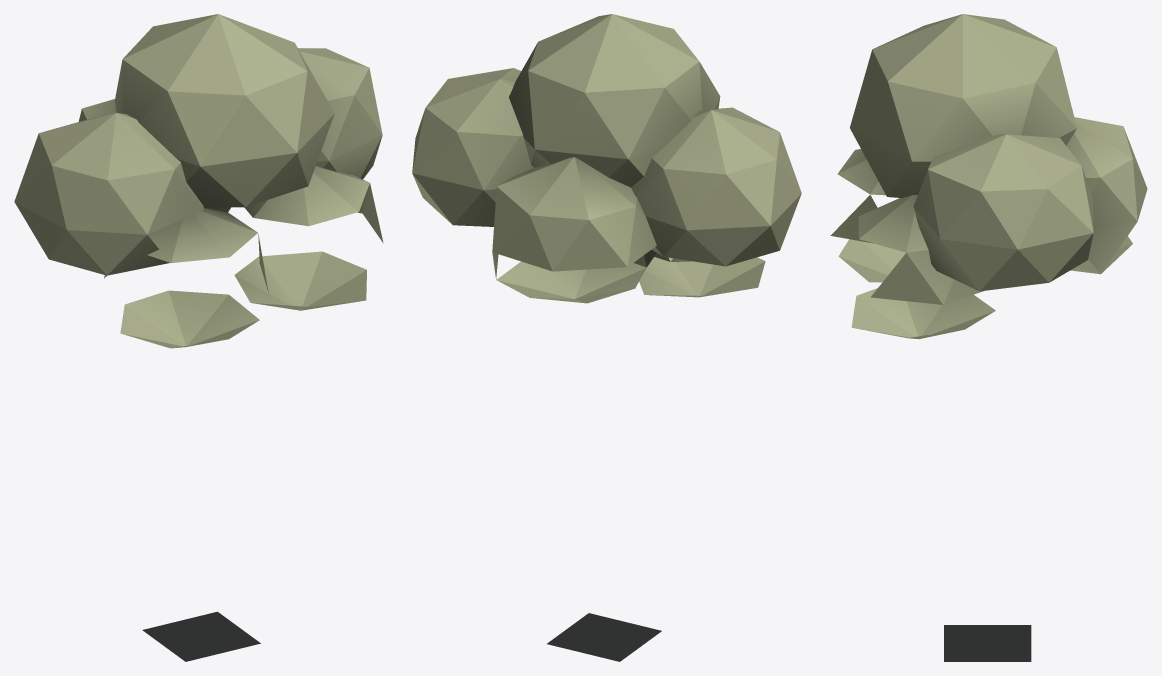
File: pit.lod.glb
3 views of the same model, side by side, from view 1: azimuth 30°, elevation 25°; view 2: azimuth 150°, elevation 25°; view 3: azimuth 270°, elevation 25° (orthographic). The views are drawn at different scales.
Visible parts, largest first — view 1: pit; view 2: pit; view 3: pit.
Part boxes in pixels (x1,y1,x2,y2): pit: [14, 14, 383, 661]; pit: [412, 14, 801, 661]; pit: [830, 14, 1147, 661].
Bounding box in the file's own units: 4.74 × 7.98 × 3.63.
